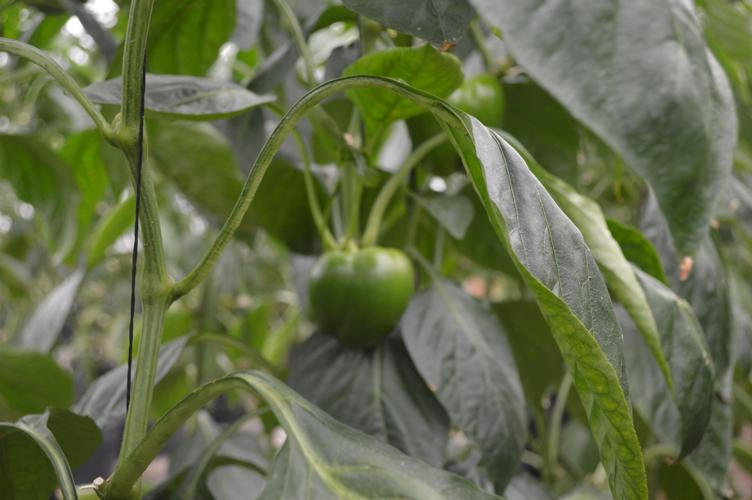BellPepper: (307, 250, 410, 347), (410, 76, 500, 169)
